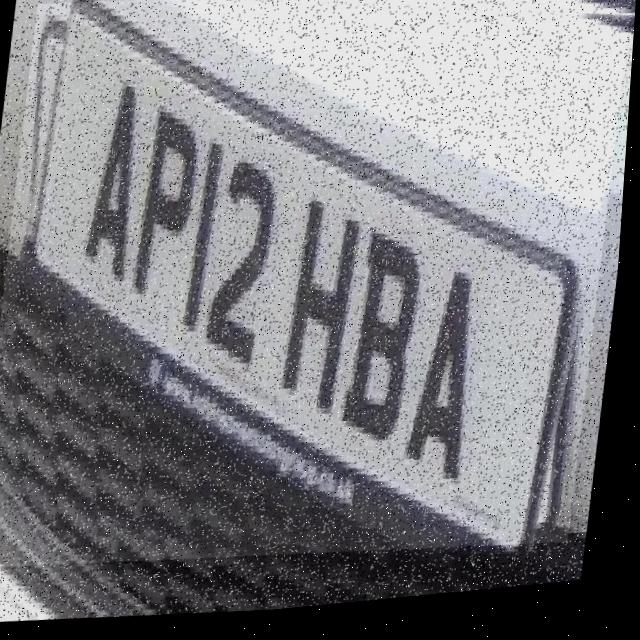LicensePlate: (0, 0, 637, 600)
